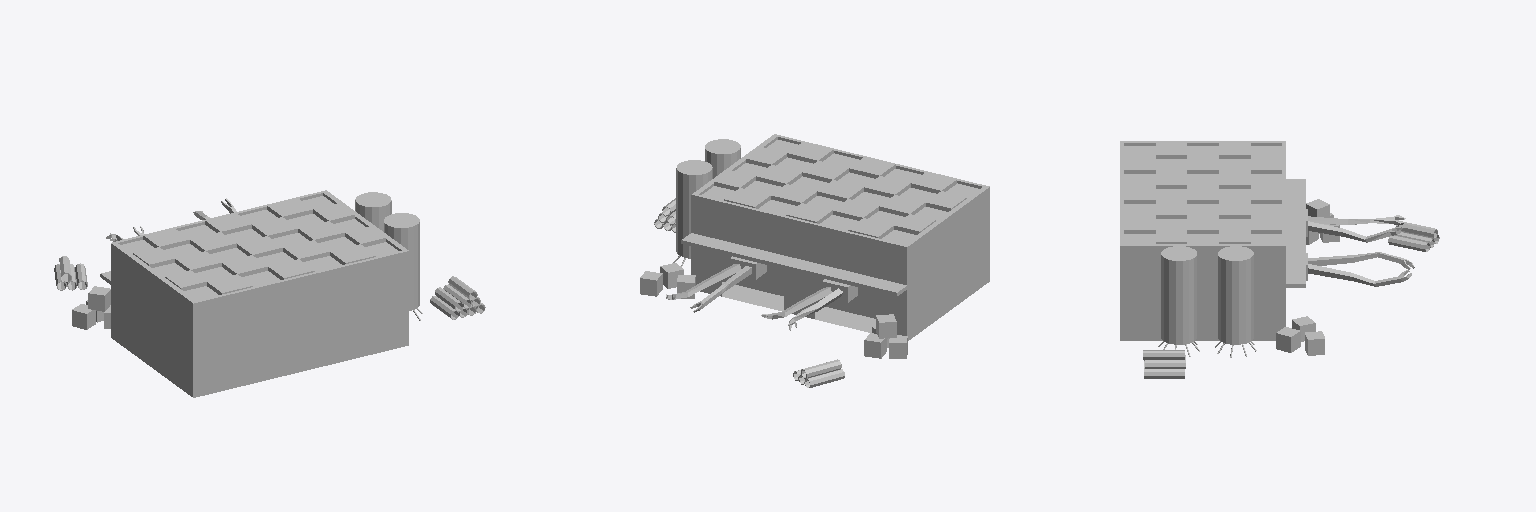
The model's file is RobotFactory.obj.
The picture shows the model from 3 angles: view 1: azimuth 30°, elevation 25°; view 2: azimuth 150°, elevation 25°; view 3: azimuth 270°, elevation 25°; orthographic projection.
Visible parts, largest first — view 1: Circle.002_Circle.004; view 2: Circle.002_Circle.004; view 3: Circle.002_Circle.004.
Part boxes in pixels (left/top/right/bottom): Circle.002_Circle.004: left=54, top=190, right=485, bottom=397; Circle.002_Circle.004: left=640, top=134, right=989, bottom=387; Circle.002_Circle.004: left=1120, top=141, right=1439, bottom=378.
Size of the model in its own units: 0.9247 by 0.268 by 0.7912.